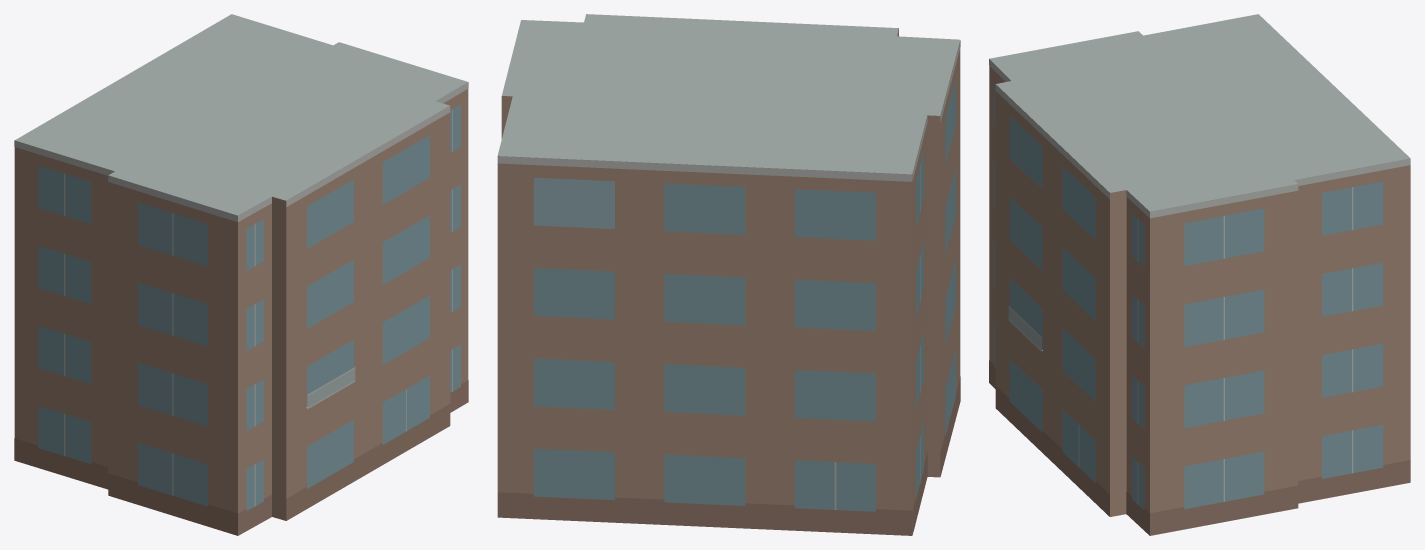
Rendered from survey-upis-32747413.glb.
3 views of the same model, side by side, from view 1: azimuth 30°, elevation 25°; view 2: azimuth 150°, elevation 25°; view 3: azimuth 270°, elevation 25° (orthographic). The views are drawn at different scales.
Parts seen in each view (by area): view 1: survey-upis-32747413.tmp; view 2: survey-upis-32747413.tmp; view 3: survey-upis-32747413.tmp.
Boxes of the visible parts, box(x1,y1,x2,y2) form: survey-upis-32747413.tmp: box(14, 14, 468, 535); survey-upis-32747413.tmp: box(497, 14, 960, 535); survey-upis-32747413.tmp: box(989, 14, 1410, 535).
Size of the model in its own units: 15.58 by 11.9 by 14.03.
